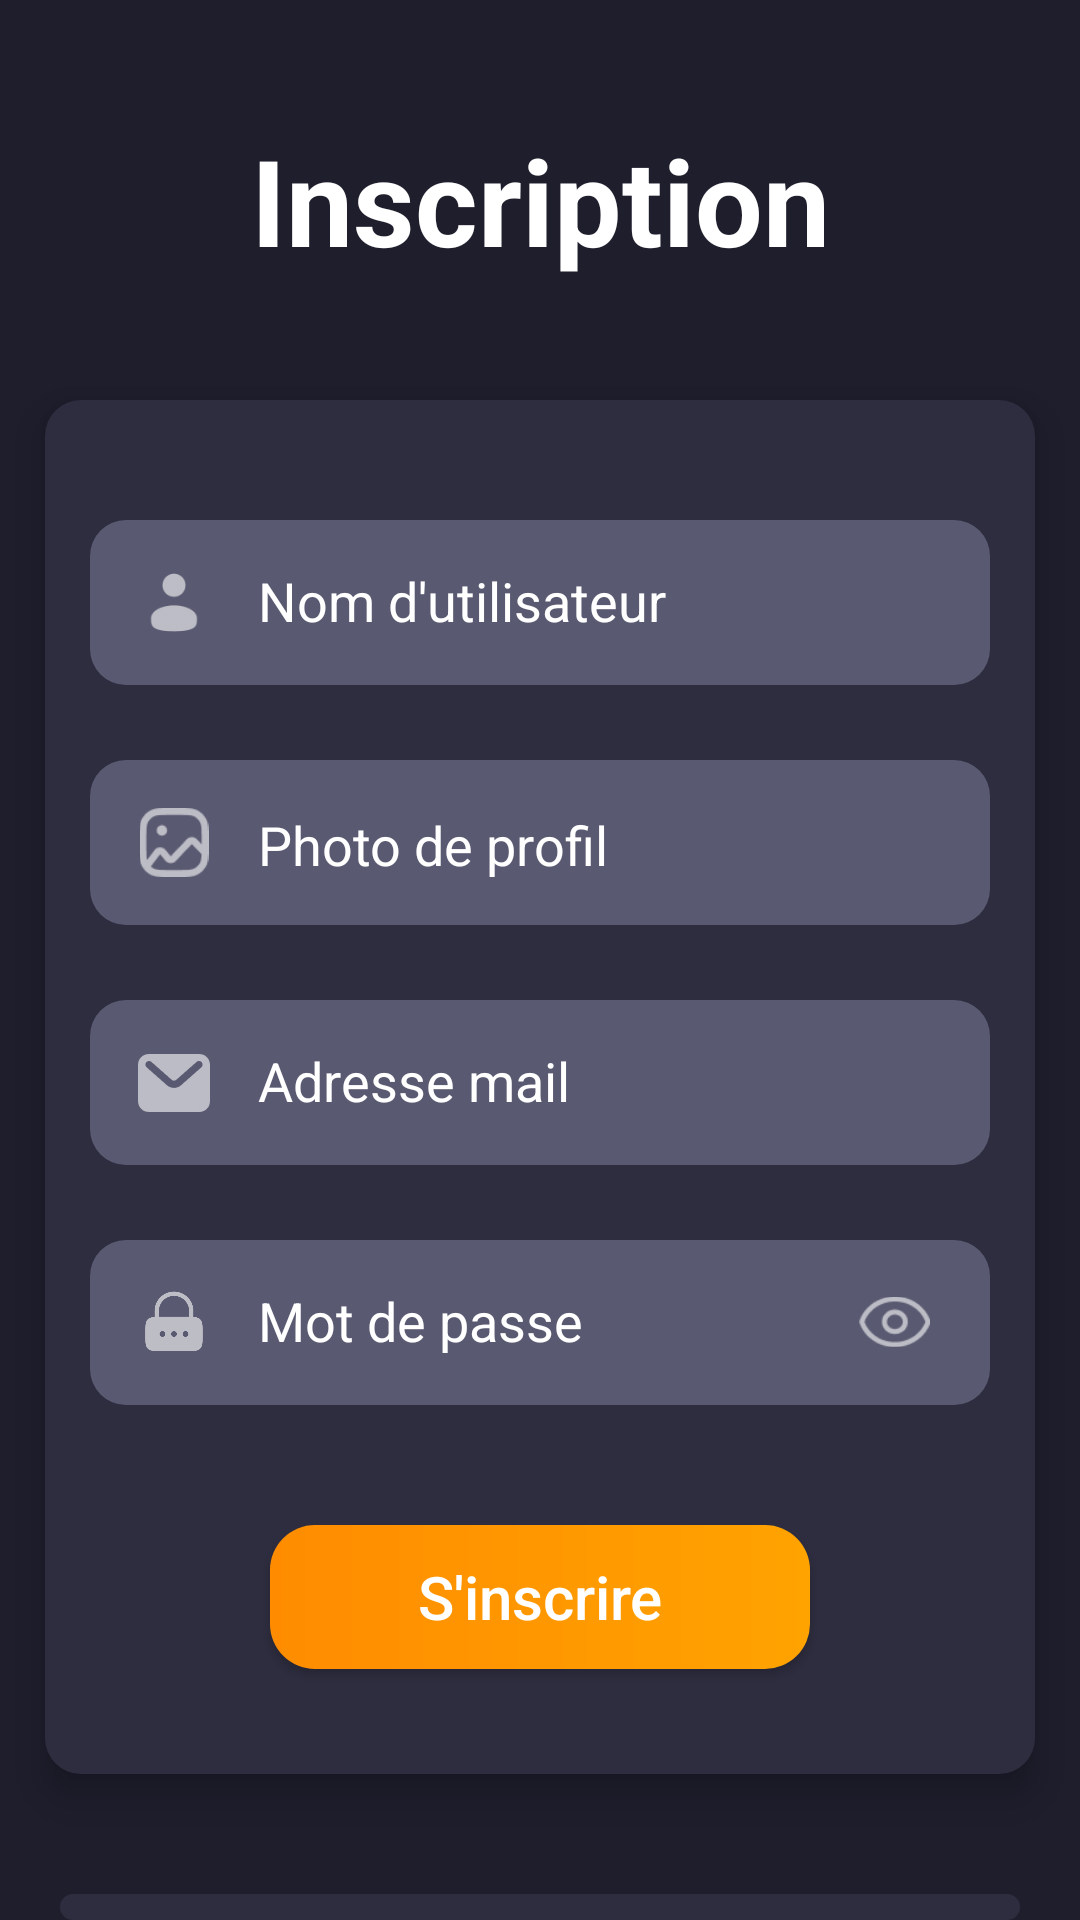

Icon click points for this 1080 x 1920 phone screenshot, format (x=x, y=y):
user: (x=174, y=602)
visible toggle: (x=894, y=1322)
